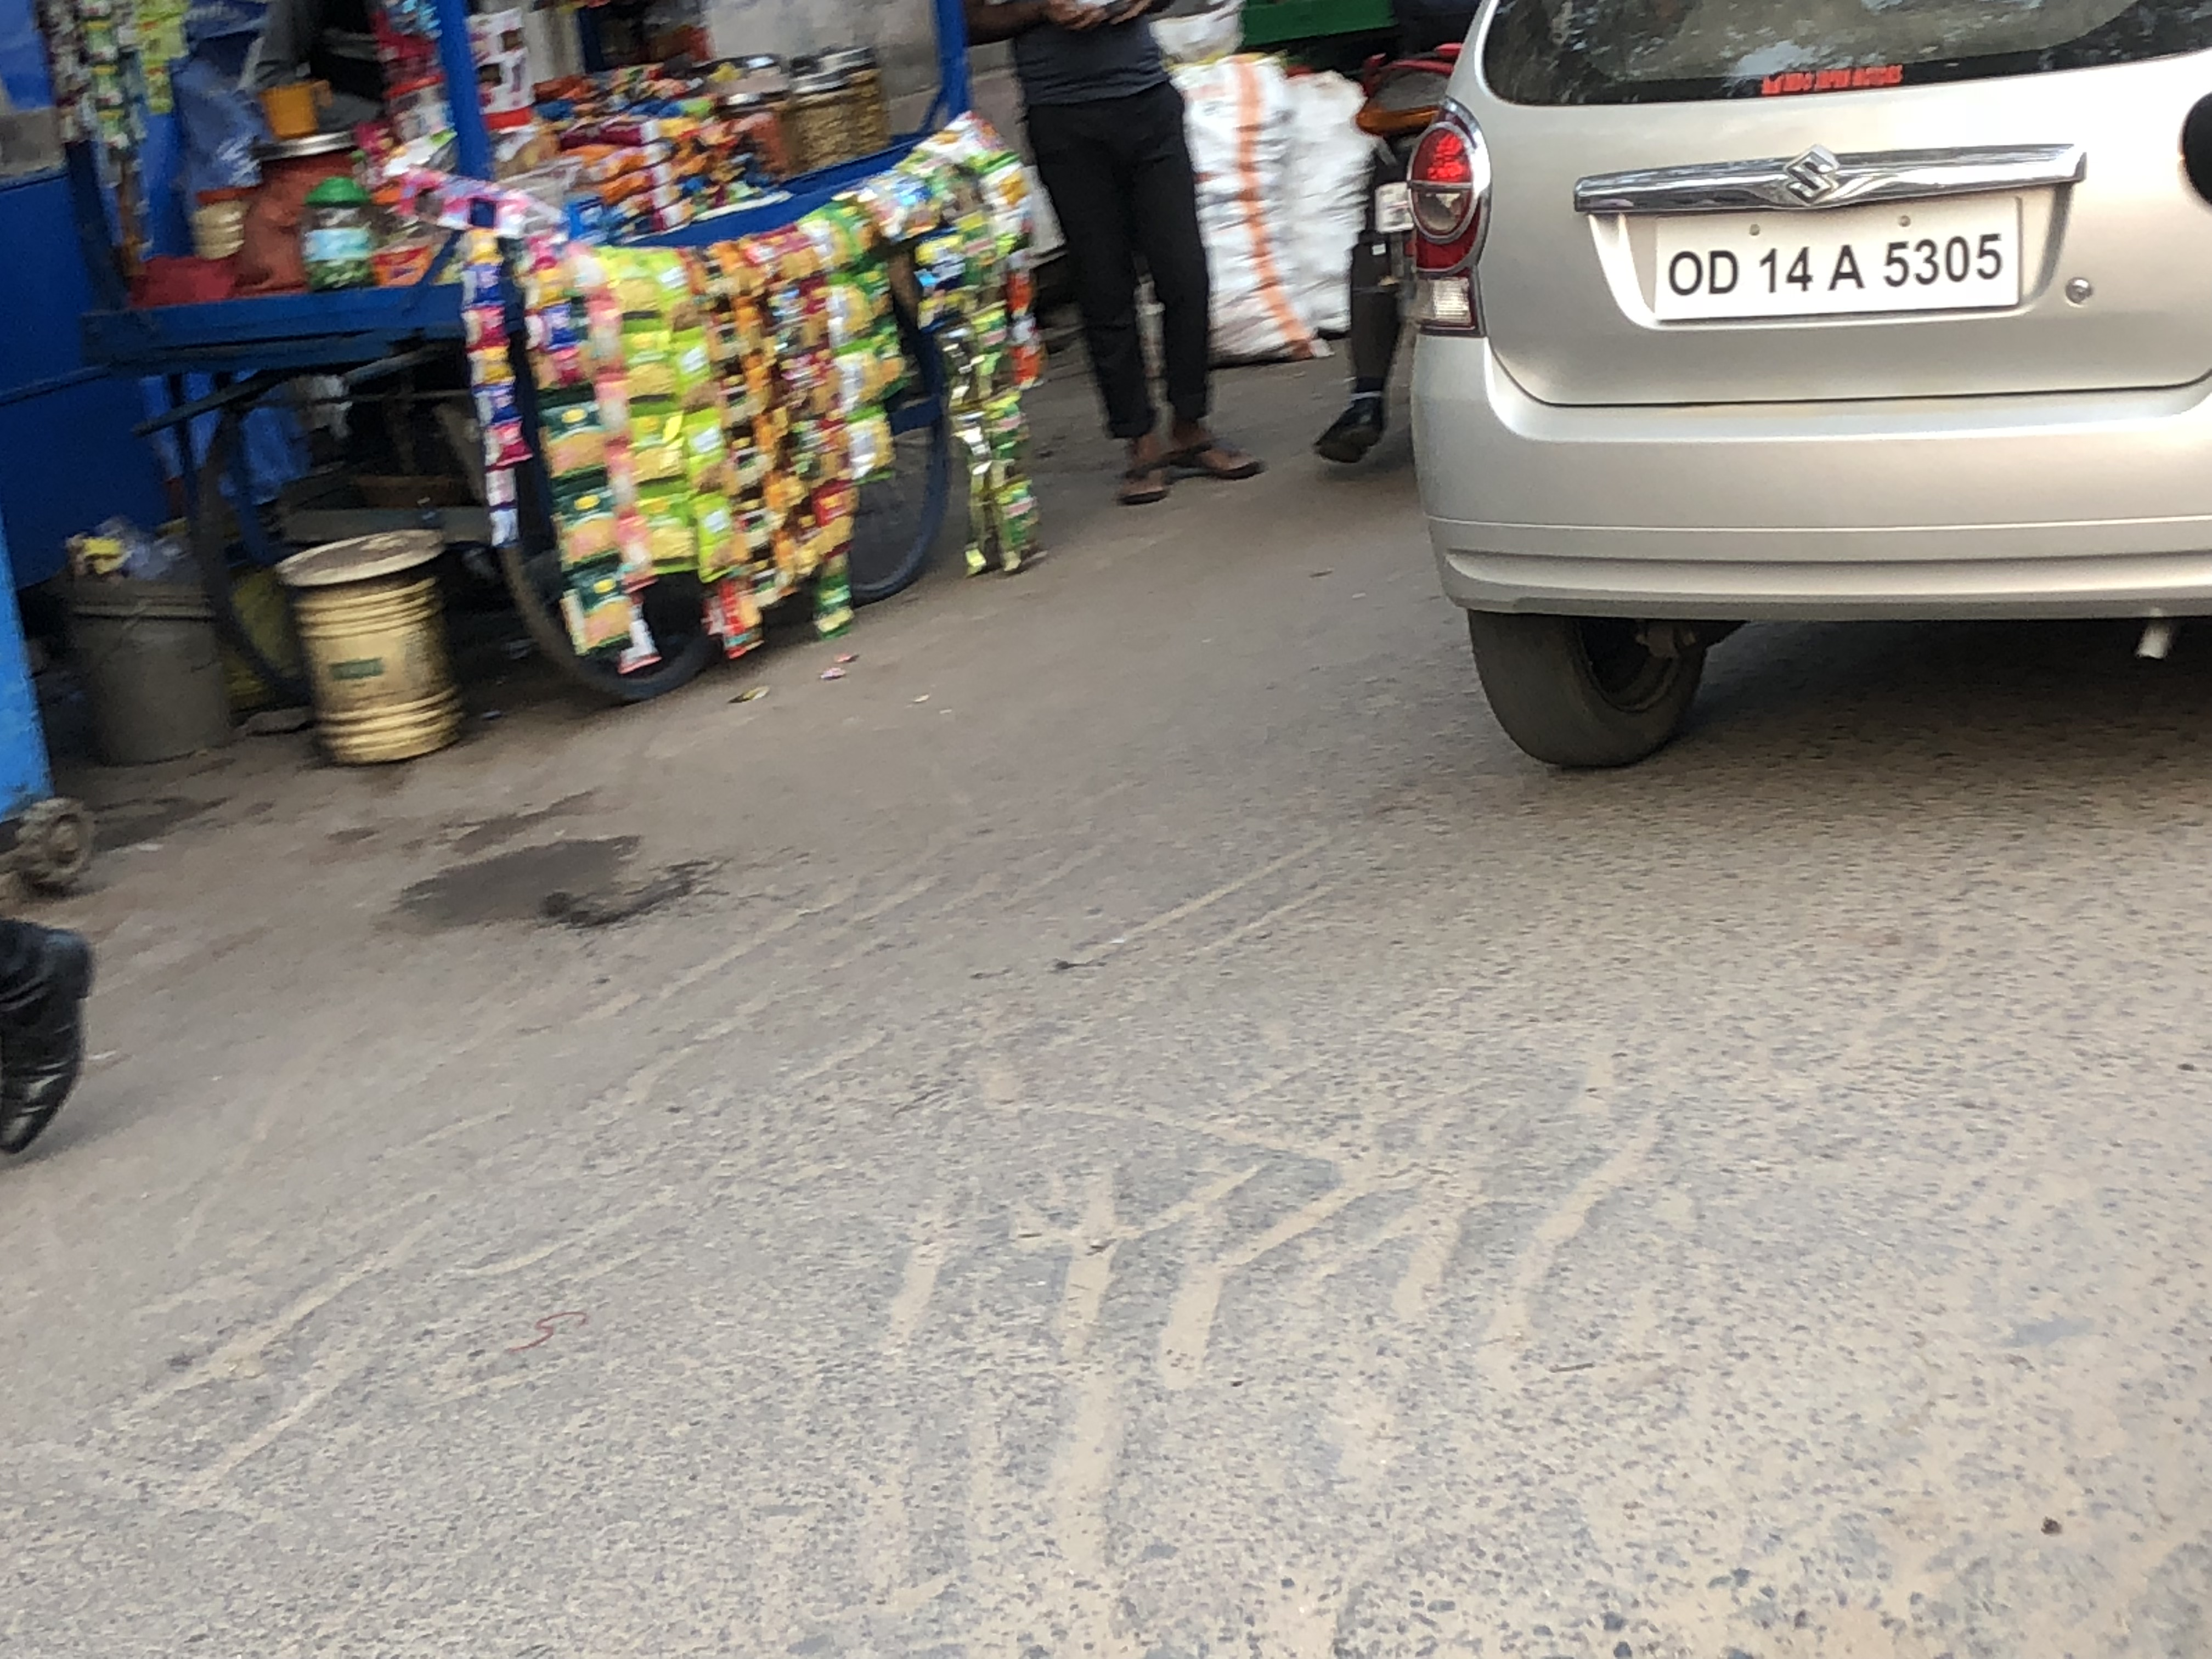licenseplate: (1643, 186, 2057, 325)
